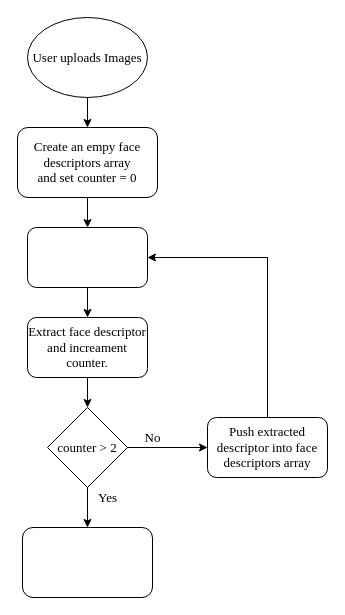
The diagram is 345 pixels wide and 615 high, and some of its shapes have lost their labels. Here are the shapes that lost their labels. From the top down, the centre of each, then its label:
At point (87, 257): "Load Image whose index = counter into a canvas".
At point (87, 562): "Create labeled descriptors object and save in the database.".
